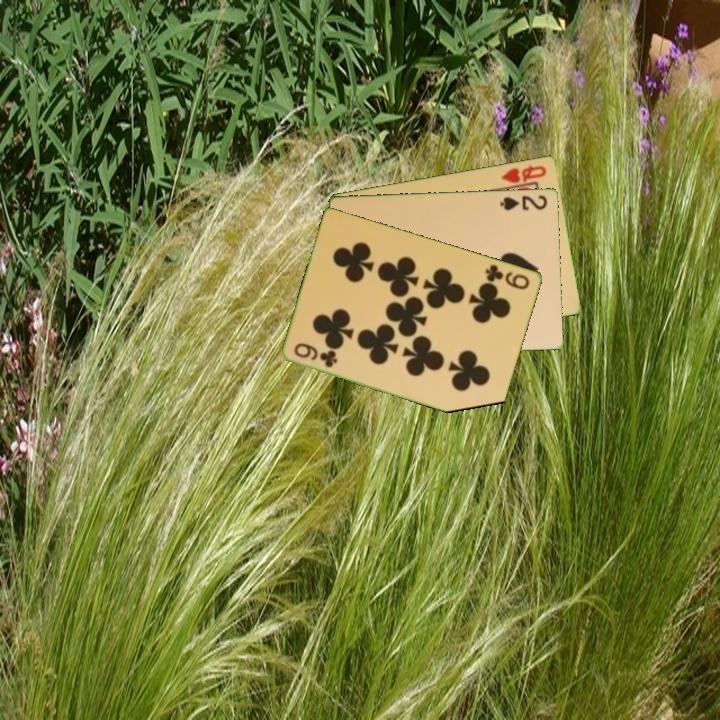2s: (497, 192, 550, 213)
9c: (482, 261, 533, 292), (291, 339, 341, 370)
Qh: (498, 161, 549, 186)
